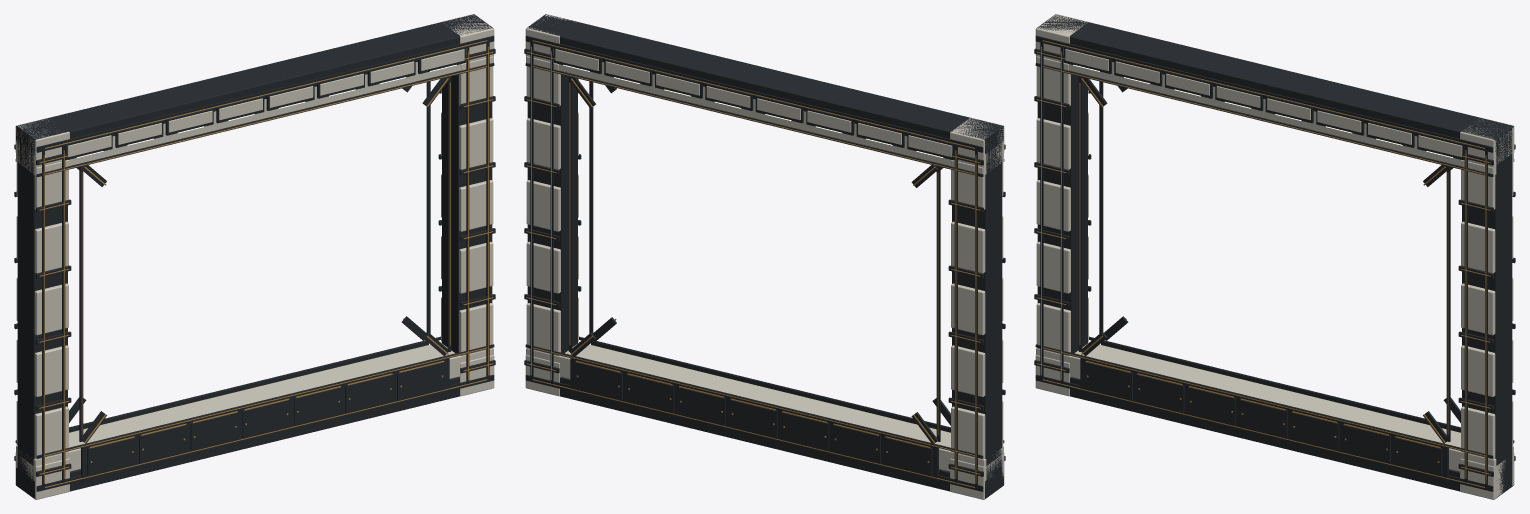
The model's file is SM_Aurelion_KIT_Z12ArmoredViewFrame_8x6.fbx.
3 renders of one model, left to right at view 1: azimuth 30°, elevation 25°; view 2: azimuth 150°, elevation 25°; view 3: azimuth 330°, elevation 25°, orthographic.
Visible parts, largest first — view 1: SM_Aurelion_KIT_Z12ArmoredViewFrame_8x6; view 2: SM_Aurelion_KIT_Z12ArmoredViewFrame_8x6; view 3: SM_Aurelion_KIT_Z12ArmoredViewFrame_8x6.
Boxes of the visible parts, <box> form: SM_Aurelion_KIT_Z12ArmoredViewFrame_8x6: <box>14,14,495,499</box>; SM_Aurelion_KIT_Z12ArmoredViewFrame_8x6: <box>524,14,1005,499</box>; SM_Aurelion_KIT_Z12ArmoredViewFrame_8x6: <box>1034,14,1515,499</box>.
Bounding box in the file's own units: 800 × 73.3 × 600.
